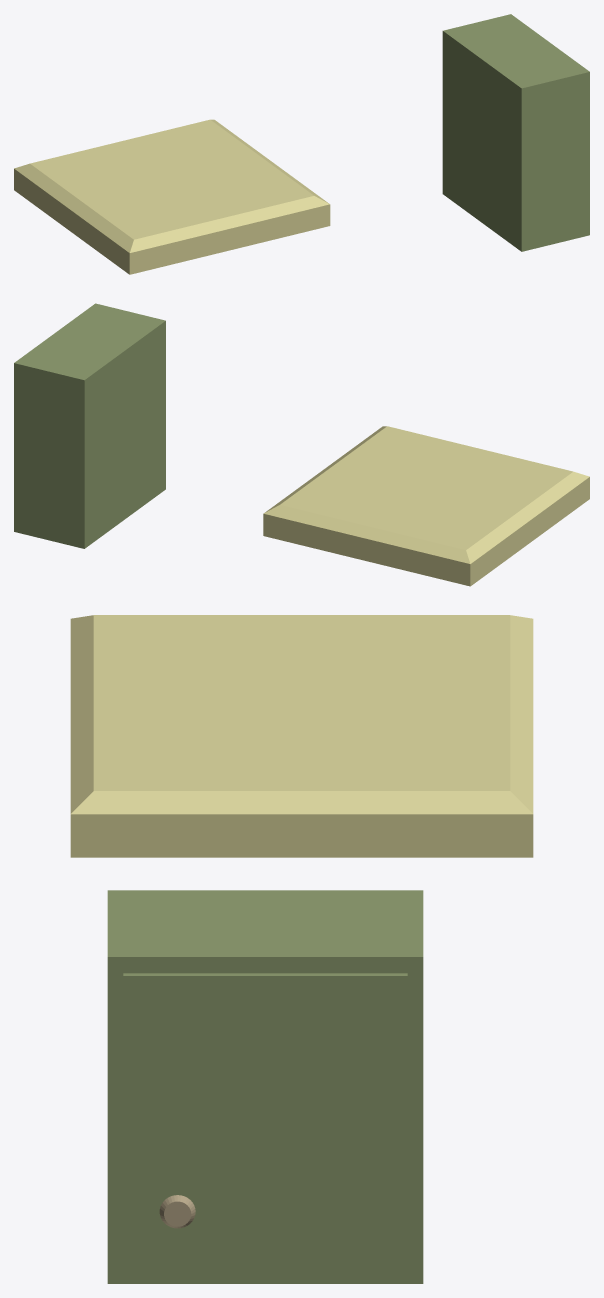
File: Wall 1.fbx
The picture shows the model from 3 angles, top to bottom: view 1: azimuth 30°, elevation 25°; view 2: azimuth 150°, elevation 25°; view 3: azimuth 270°, elevation 25°; orthographic projection. The views are drawn at different scales.
Visible parts, largest first — view 1: Wall, Cube.002; view 2: Wall, Cube.002; view 3: Cube.002, Wall.
Part boxes in pixels (x1,y1,x2,y2): Wall: [14, 119, 330, 274]; Cube.002: [442, 14, 589, 251]; Wall: [263, 426, 589, 586]; Cube.002: [14, 303, 165, 548]; Cube.002: [107, 890, 423, 1283]; Wall: [70, 615, 533, 857].
Bounding box in the file's own units: 476 × 156 × 200.
